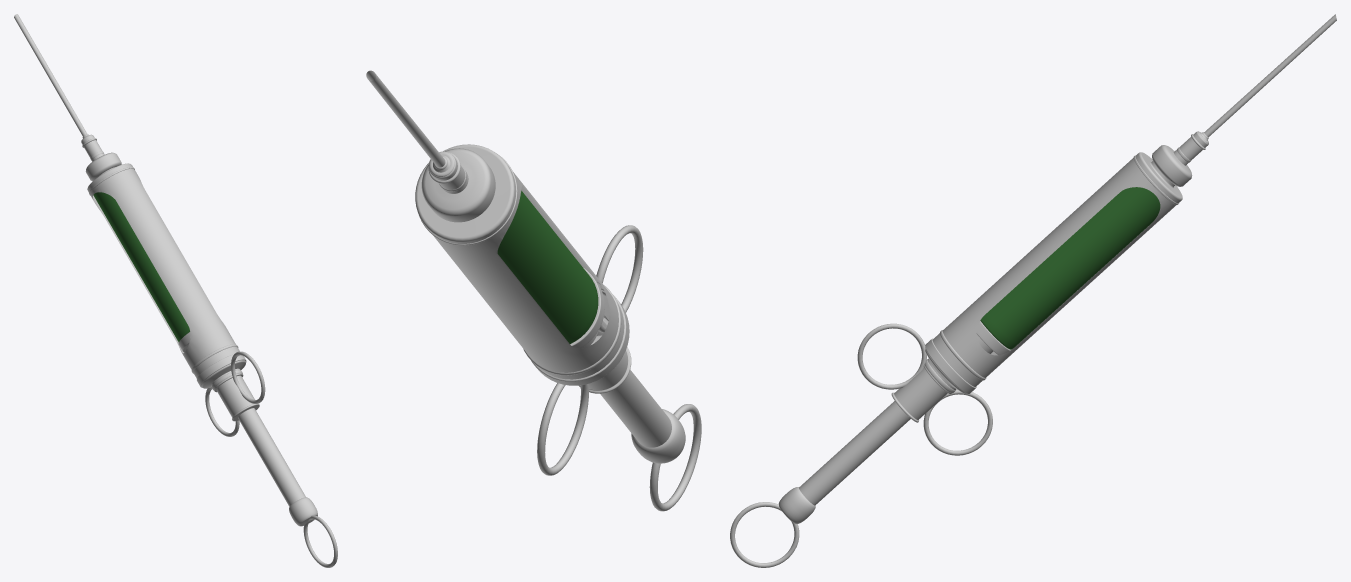
Rendered from Injector.obj.
The picture shows the model from 3 angles, left to right: view 1: azimuth 30°, elevation 25°; view 2: azimuth 150°, elevation 25°; view 3: azimuth 270°, elevation 25°; orthographic projection. The views are drawn at different scales.
Bounding box in the file's own units: 0.1697 × 0.7661 × 0.8332.
